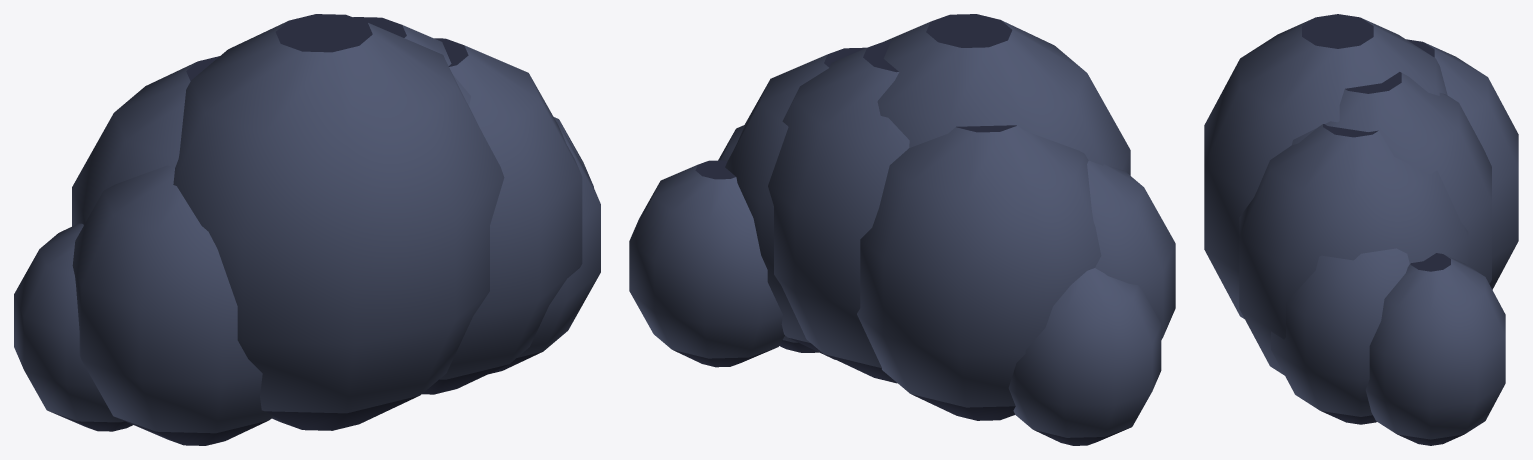
The model's file is SM_Env_StormCloud_HQ.glb.
3 renders of one model, left to right at view 1: azimuth 30°, elevation 25°; view 2: azimuth 150°, elevation 25°; view 3: azimuth 270°, elevation 25°, orthographic. The views are drawn at different scales.
Parts seen in each view (by area): view 1: SM_Env_StormCloud_HQ; view 2: SM_Env_StormCloud_HQ; view 3: SM_Env_StormCloud_HQ.
Part boxes in pixels (<box>): SM_Env_StormCloud_HQ: <box>14,14,600,445</box>; SM_Env_StormCloud_HQ: <box>629,14,1175,445</box>; SM_Env_StormCloud_HQ: <box>1204,14,1518,445</box>.
Size of the model in its own units: 12.65 by 8.11 by 7.35.
1 material, 1 textured.
